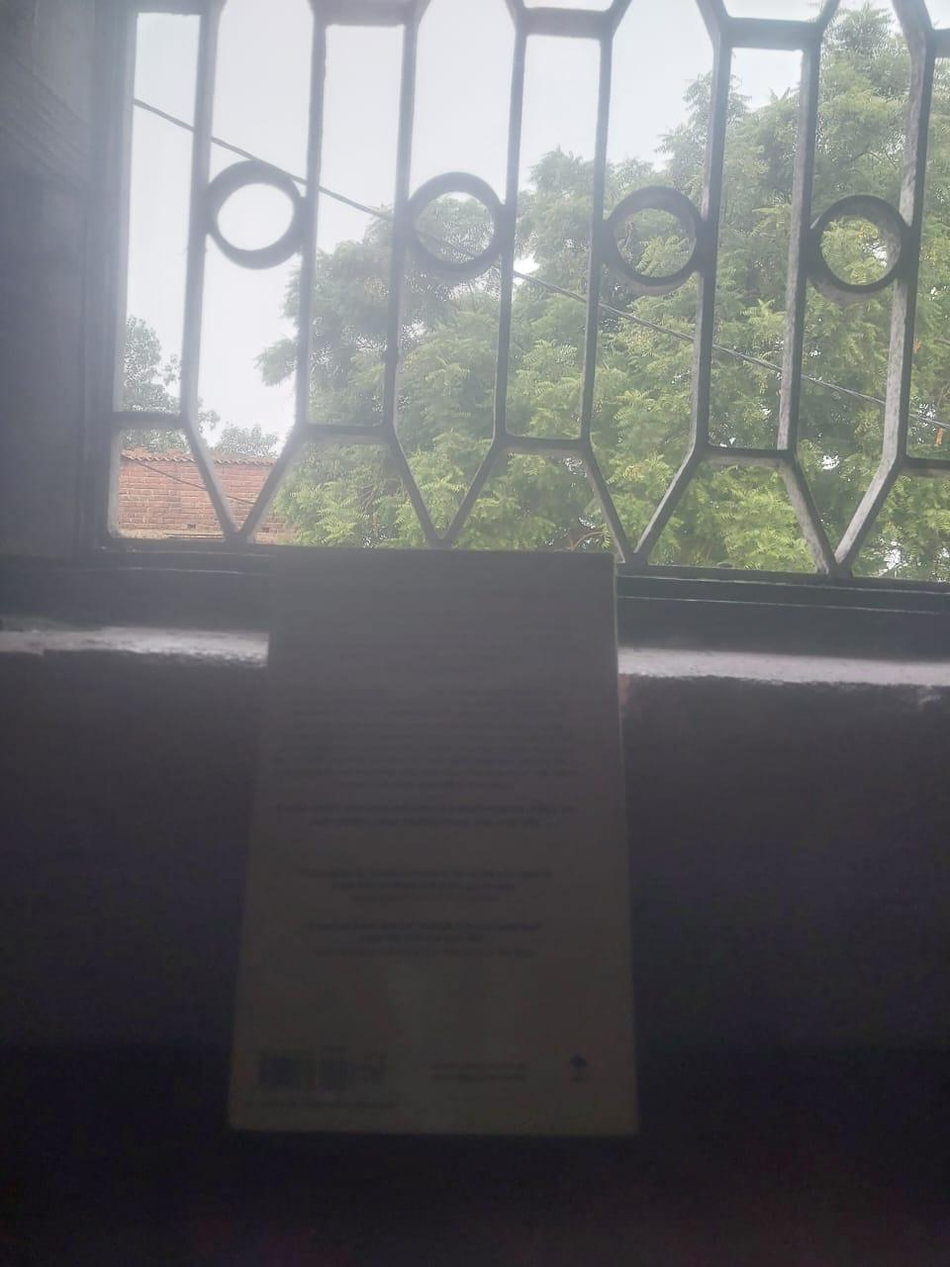Book: (232, 537, 648, 1141)
